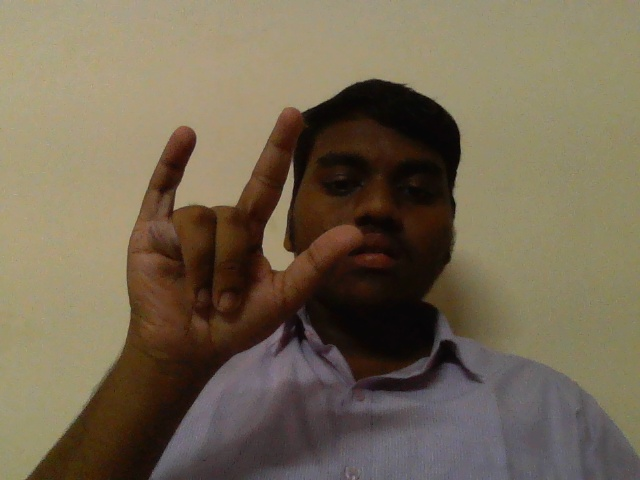I love you: (108, 103, 362, 367)
